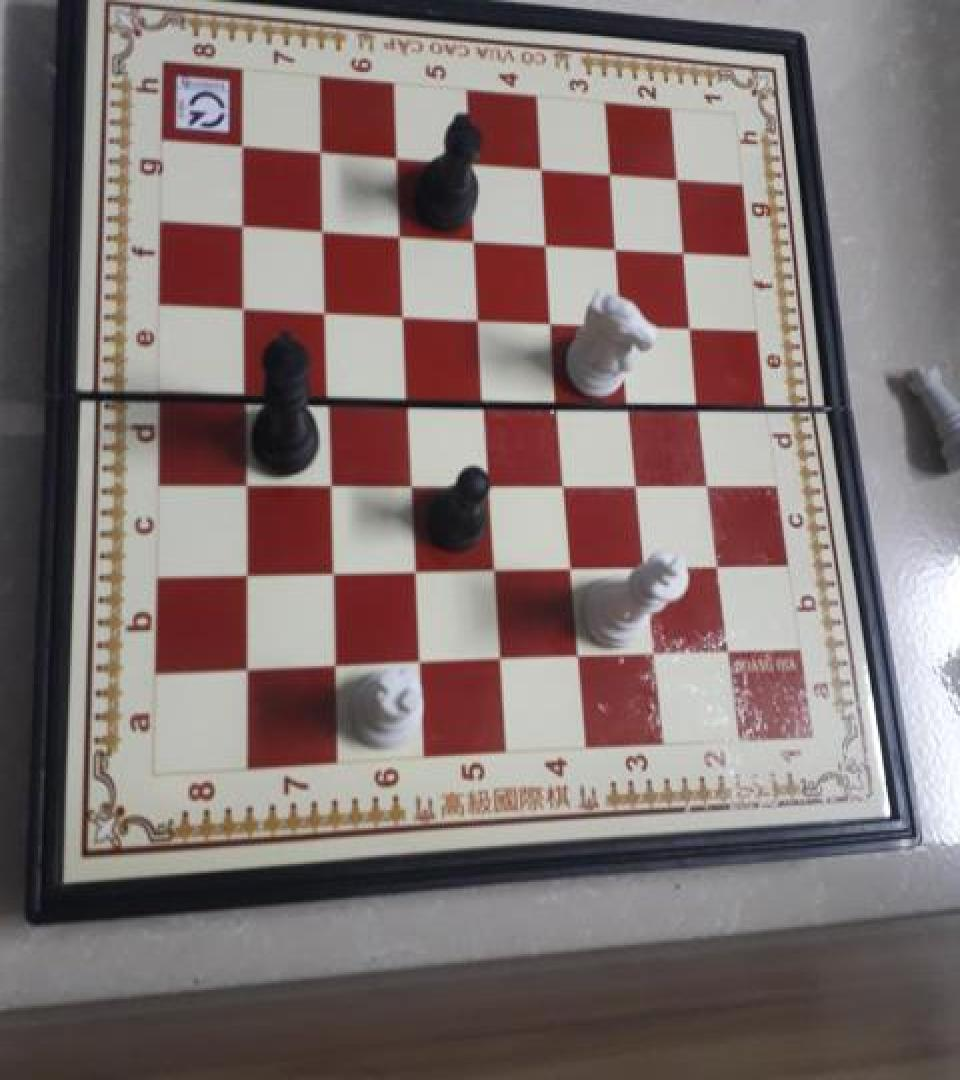xcorner: (235, 649, 263, 681), (407, 643, 435, 675), (488, 640, 516, 672), (715, 633, 743, 665), (235, 553, 263, 585), (320, 552, 348, 584), (403, 551, 431, 583), (483, 550, 511, 582), (560, 549, 588, 581), (634, 549, 662, 581), (234, 462, 262, 494), (318, 462, 346, 494), (399, 463, 427, 495), (478, 463, 506, 495), (396, 378, 424, 410), (473, 380, 501, 412), (547, 382, 575, 414), (233, 289, 261, 321), (392, 297, 420, 329), (468, 300, 496, 332), (612, 306, 640, 338), (680, 309, 708, 341), (233, 208, 261, 240), (389, 218, 417, 250), (535, 227, 563, 259), (672, 235, 700, 267), (232, 129, 260, 161), (310, 136, 338, 168), (459, 147, 487, 179), (530, 153, 558, 185), (665, 164, 693, 196), (323, 646, 351, 677), (567, 638, 595, 669), (642, 636, 670, 667), (706, 548, 734, 579), (553, 465, 581, 496), (627, 465, 655, 496), (697, 466, 725, 497), (234, 375, 262, 406), (316, 376, 344, 407), (619, 385, 647, 416), (689, 386, 717, 417), (314, 294, 342, 325), (541, 304, 569, 335), (312, 213, 340, 244), (463, 223, 491, 254), (605, 232, 633, 263), (386, 142, 414, 173), (598, 159, 626, 190)
